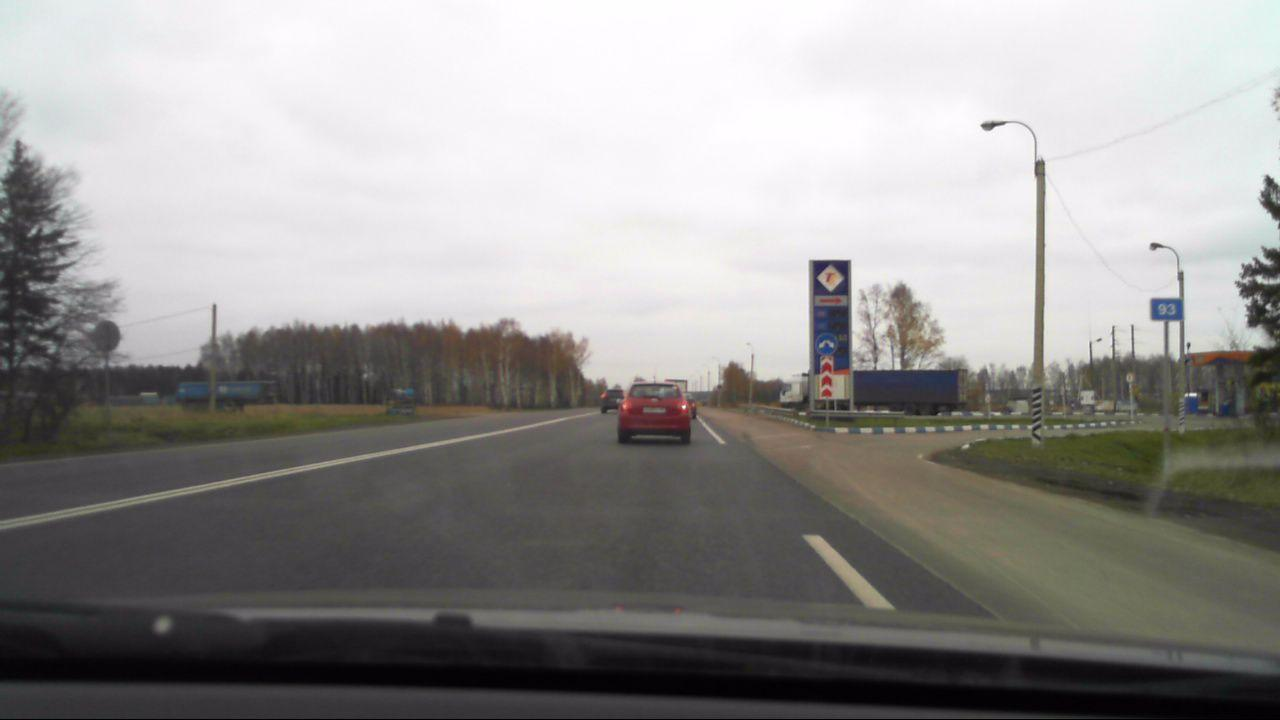4_2_3: (812, 333, 838, 356)
8_22_3: (821, 356, 834, 400)
